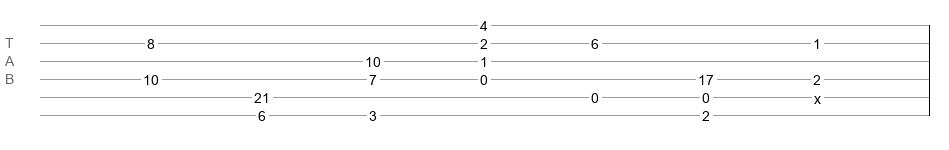0: (480, 72, 488, 82), (591, 90, 599, 100), (702, 90, 710, 100)
1: (480, 54, 488, 64), (813, 36, 821, 46)
10: (143, 72, 159, 82), (365, 54, 381, 64)
17: (698, 72, 714, 82)
2: (480, 36, 488, 46), (702, 108, 710, 118), (813, 72, 821, 82)
21: (254, 90, 270, 100)
3: (369, 108, 377, 118)
4: (480, 18, 488, 28)
6: (258, 108, 266, 118), (591, 36, 599, 46)
7: (369, 72, 377, 82)
8: (147, 36, 155, 46)
x: (814, 91, 821, 99)
